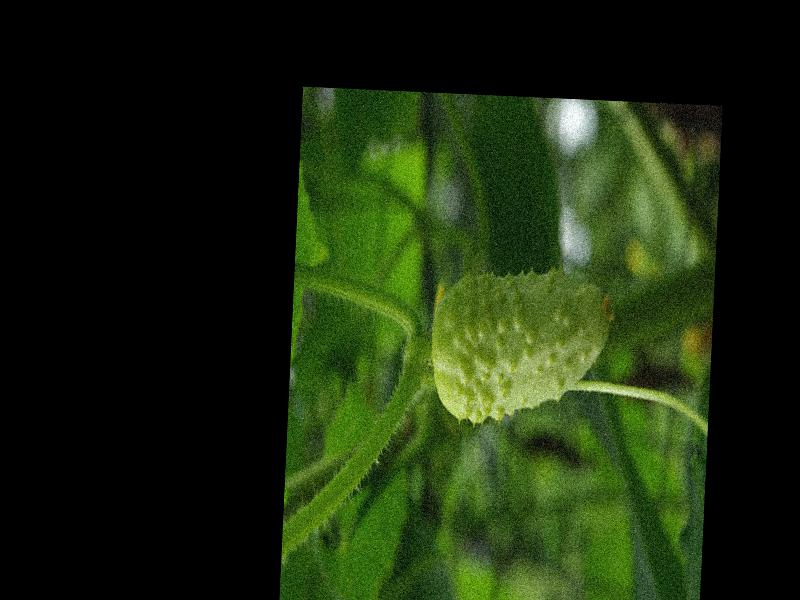Cucumber: (427, 267, 617, 430)
